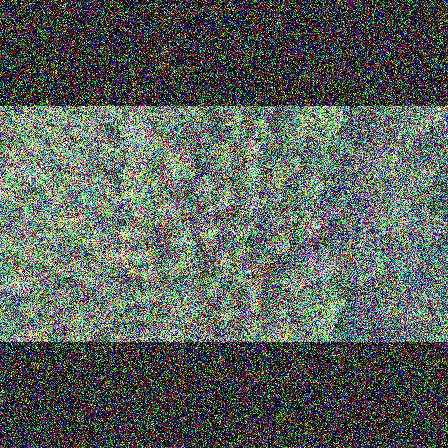Dead: (201, 202, 222, 219)
Sick: (242, 219, 258, 237)
